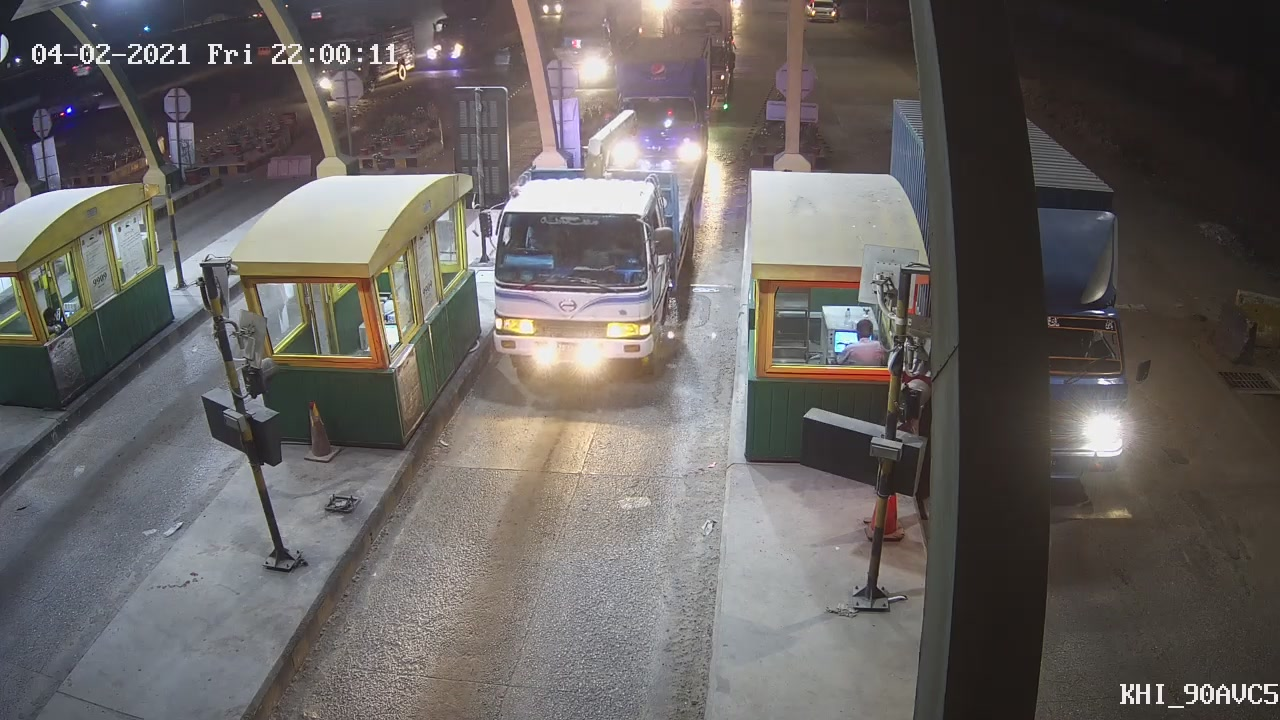F6: (479, 156, 698, 387)
